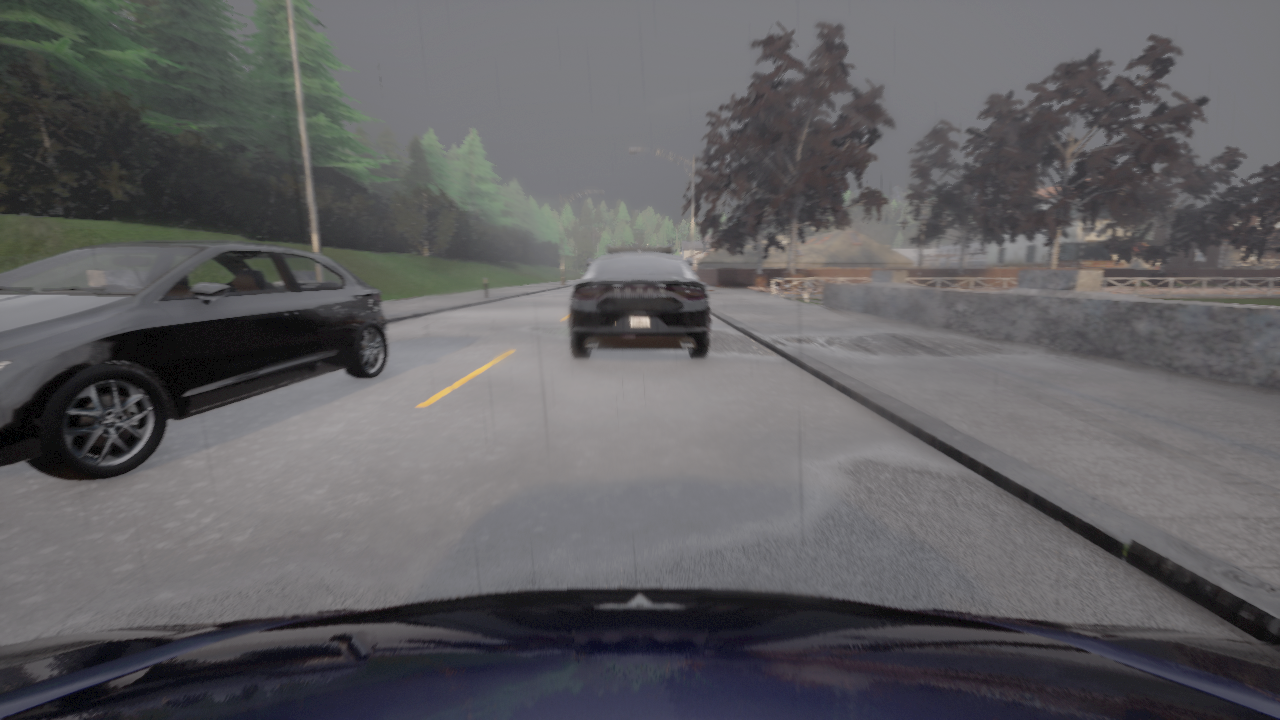cyclist: (0, 588, 1279, 719), (0, 241, 388, 481), (569, 245, 710, 358), (693, 270, 696, 274)
